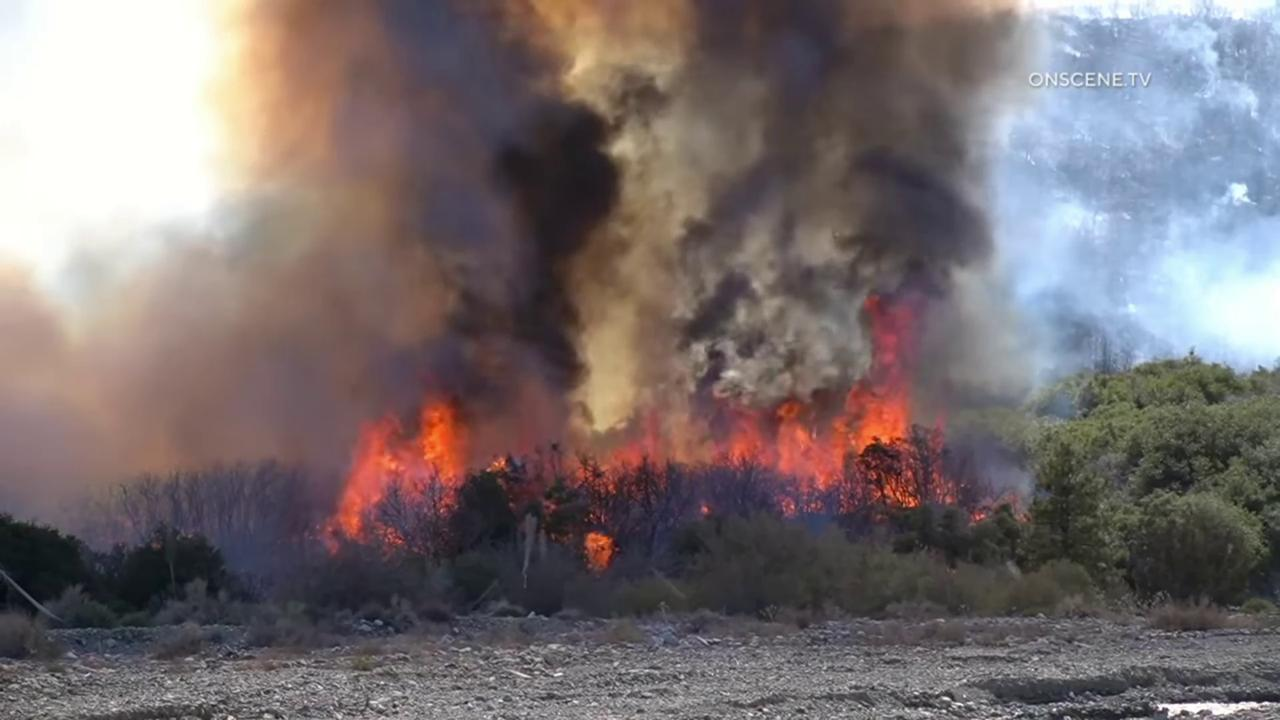fire: (716, 293, 953, 517), (317, 389, 465, 556), (572, 409, 668, 496), (582, 528, 621, 578), (486, 456, 506, 474), (975, 513, 986, 522), (701, 505, 710, 515)
smoke: (0, 0, 1280, 594)
